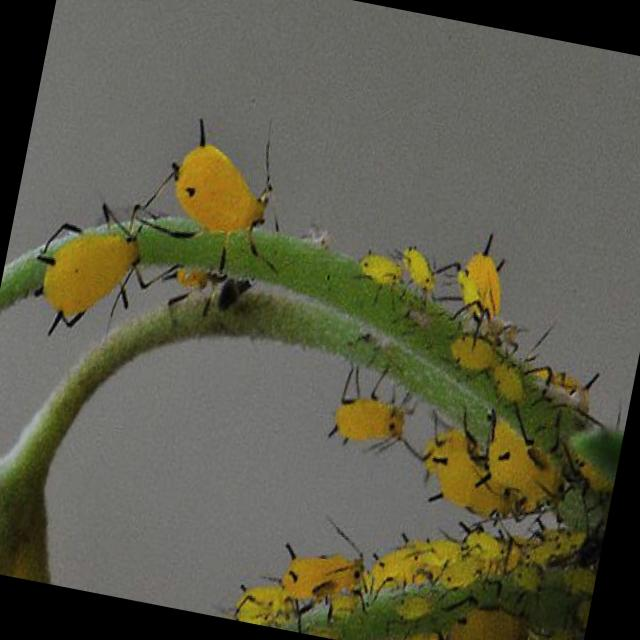Aphids: (3, 178, 176, 382), (148, 96, 324, 278), (415, 223, 526, 348), (320, 352, 434, 469), (457, 410, 572, 510), (349, 246, 401, 312), (444, 328, 504, 384), (396, 246, 446, 312), (482, 353, 528, 410), (378, 548, 381, 551)
